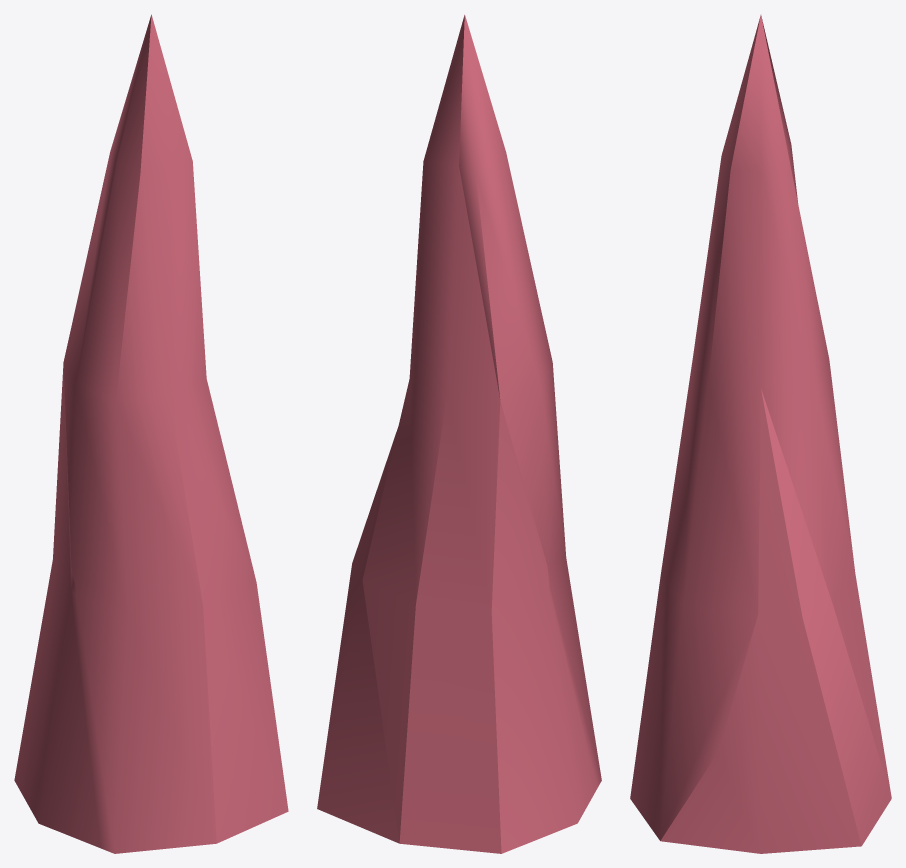
Rendered from sm_stalactite (1).fbx.
3 renders of one model, left to right at view 1: azimuth 30°, elevation 25°; view 2: azimuth 150°, elevation 25°; view 3: azimuth 270°, elevation 25°, orthographic.
Parts seen in each view (by area): view 1: Cube; view 2: Cube; view 3: Cube.
Part boxes in pixels (x1,y1,x2,y2): Cube: (14, 14, 288, 853); Cube: (317, 14, 601, 853); Cube: (630, 15, 891, 853).
Size of the model in its own units: 199 by 658 by 199.
